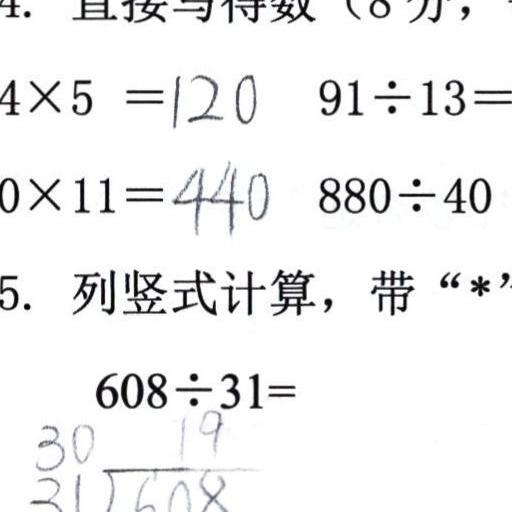ans: (169, 156, 271, 235), (164, 65, 258, 127)
